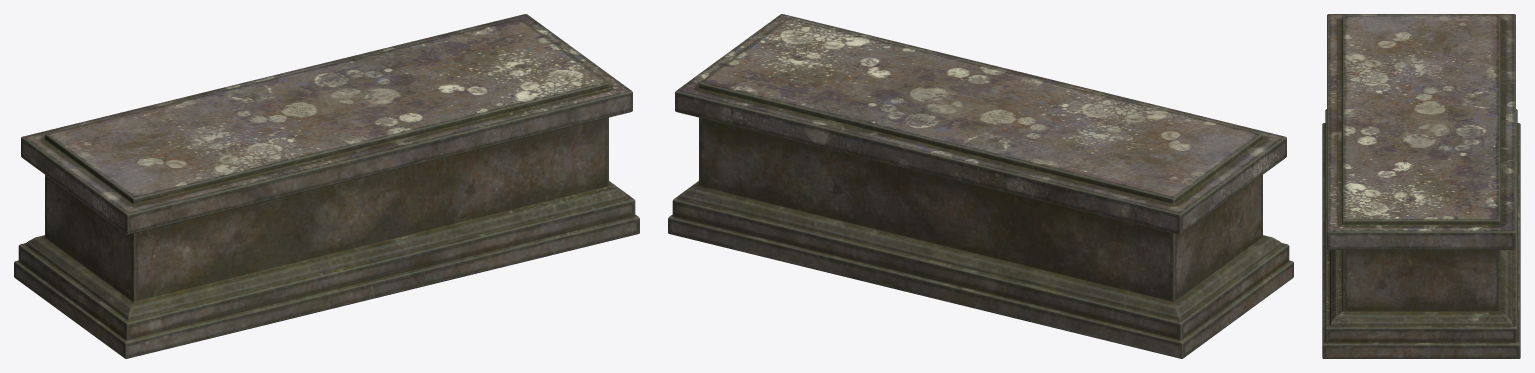
The model's file is SM_TombsE_002.fbx.
3 renders of one model, left to right at view 1: azimuth 30°, elevation 25°; view 2: azimuth 150°, elevation 25°; view 3: azimuth 270°, elevation 25°, orthographic. The views are drawn at different scales.
Visible parts, largest first — view 1: SM_TombsE_002_LOD0; view 2: SM_TombsE_002_LOD0; view 3: SM_TombsE_002_LOD0.
Part boxes in pixels (bbox=[...]): SM_TombsE_002_LOD0: bbox=[14, 14, 639, 358]; SM_TombsE_002_LOD0: bbox=[668, 14, 1293, 358]; SM_TombsE_002_LOD0: bbox=[1322, 14, 1520, 358].
Size of the model in its own units: 198 by 74.73 by 54.36.
1 material, 1 textured.
